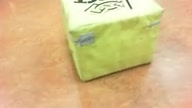cube: (60, 1, 165, 83)
